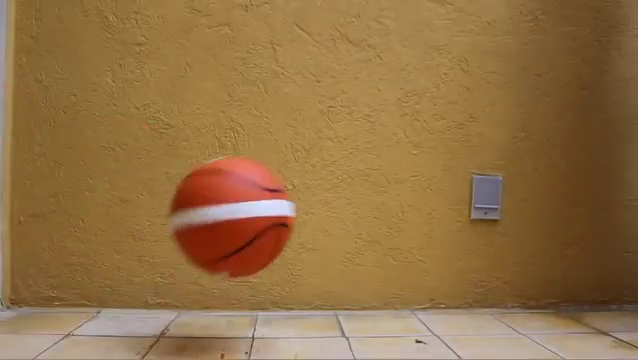ball: (169, 152, 297, 277)
